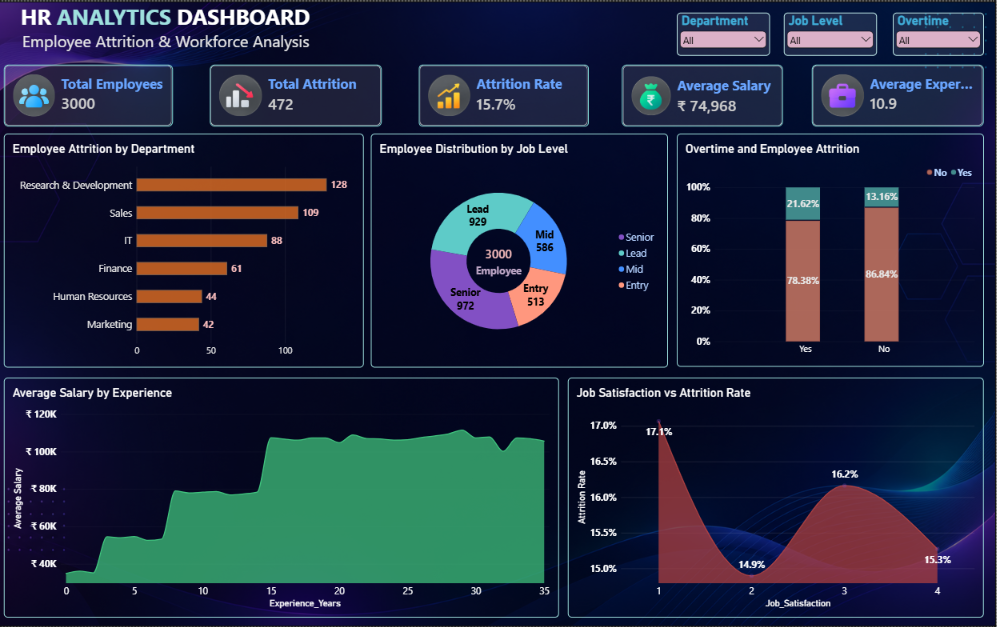

What the dashboard file says about the page in this screenshot:
{"tool":"powerbi","page":{"name":"Page 1","canvas":[2000,1250],"ordinal":0},"visuals":[{"type":"cardVisual","fields":{"Data":["HR_Analytics_Dataset.Attrition Rate"]},"box":[844,126,340,124],"z":0},{"type":"cardVisual","fields":{"Data":["HR_Analytics_Dataset.Average Salary"]},"box":[1250,126,322,124],"z":1000},{"type":"cardVisual","fields":{"Data":["HR_Analytics_Dataset.Average Experience"]},"box":[1630,126,344,124],"z":2000},{"type":"cardVisual","fields":{"Data":["HR_Analytics_Dataset.Total Attrition"]},"box":[426,126,344,124],"z":3000},{"type":"clusteredBarChart","title":"Employee Attrition by Department","fields":{"Category":["HR_Analytics_Dataset.Department"],"Y":["HR_Analytics_Dataset.Total Attrition"]},"box":[14,264,720,468],"z":4000},{"type":"donutChart","title":"Employee Distribution by Job Level","fields":{"Y":["Count(HR_Analytics_Dataset.Employee_ID)"],"Category":["HR_Analytics_Dataset.Job_Level"]},"box":[748,264,594,468],"z":5000},{"type":"areaChart","title":"Average Salary by Experience","fields":{"Category":["HR_Analytics_Dataset.Experience_Years"],"Y":["HR_Analytics_Dataset.Average Salary"]},"box":[14,752,1110,480],"z":6000},{"type":"hundredPercentStackedColumnChart","title":"Overtime and Employee Attrition","fields":{"Category":["HR_Analytics_Dataset.Overtime"],"Y":["Count(HR_Analytics_Dataset.Employee_ID)"],"Series":["HR_Analytics_Dataset.Attrition"]},"box":[1360,264,614,466],"z":7000},{"type":"lineChart","title":"Job Satisfaction vs Attrition Rate","fields":{"Category":["HR_Analytics_Dataset.Job_Satisfaction"],"Y":["HR_Analytics_Dataset.Attrition Rate"]},"box":[1142,752,832,480],"z":8000},{"type":"textbox","box":[14,0,734,126],"z":9000},{"type":"cardVisual","fields":{"Data":["HR_Analytics_Dataset.Total Employees"]},"box":[14,126,338,124],"z":10000},{"type":"slicer","fields":{"Values":["HR_Analytics_Dataset.Department"]},"box":[1360,22,186,86],"z":11000},{"type":"slicer","fields":{"Values":["HR_Analytics_Dataset.Job_Level"]},"box":[1574,22,186,86],"z":12000},{"type":"slicer","fields":{"Values":["HR_Analytics_Dataset.Overtime"]},"box":[1792,22,182,86],"z":12001}]}

Visuals, with their boxes in screenshot pixels (x1, y1, x2, y2), scaled from the page's 2000x1250 canvas onto the 997x627 screenshot:
cardVisual - HR_Analytics_Dataset.Attrition Rate: l=421, t=63, r=590, b=125
cardVisual - HR_Analytics_Dataset.Average Salary: l=623, t=63, r=784, b=125
cardVisual - HR_Analytics_Dataset.Average Experience: l=813, t=63, r=984, b=125
cardVisual - HR_Analytics_Dataset.Total Attrition: l=212, t=63, r=384, b=125
"Employee Attrition by Department" clusteredBarChart: l=7, t=132, r=366, b=367
"Employee Distribution by Job Level" donutChart: l=373, t=132, r=669, b=367
"Average Salary by Experience" areaChart: l=7, t=377, r=560, b=618
"Overtime and Employee Attrition" hundredPercentStackedColumnChart: l=678, t=132, r=984, b=366
"Job Satisfaction vs Attrition Rate" lineChart: l=569, t=377, r=984, b=618
textbox: l=7, t=0, r=373, b=63
cardVisual - HR_Analytics_Dataset.Total Employees: l=7, t=63, r=175, b=125
slicer - HR_Analytics_Dataset.Department: l=678, t=11, r=771, b=54
slicer - HR_Analytics_Dataset.Job_Level: l=785, t=11, r=877, b=54
slicer - HR_Analytics_Dataset.Overtime: l=893, t=11, r=984, b=54
